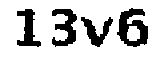1: (15, 6, 45, 53)
3: (48, 6, 78, 51)
6: (116, 6, 152, 54)
v: (80, 16, 114, 51)
